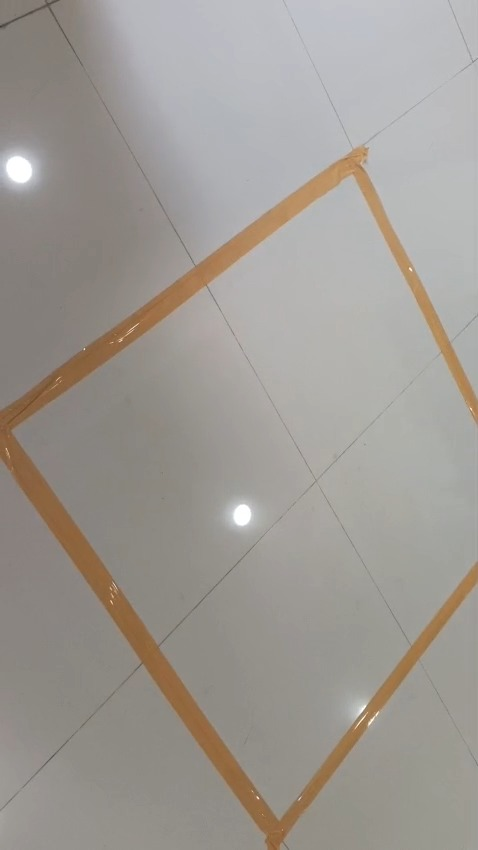floor marking: (0, 146, 477, 849), (276, 214, 277, 214)
